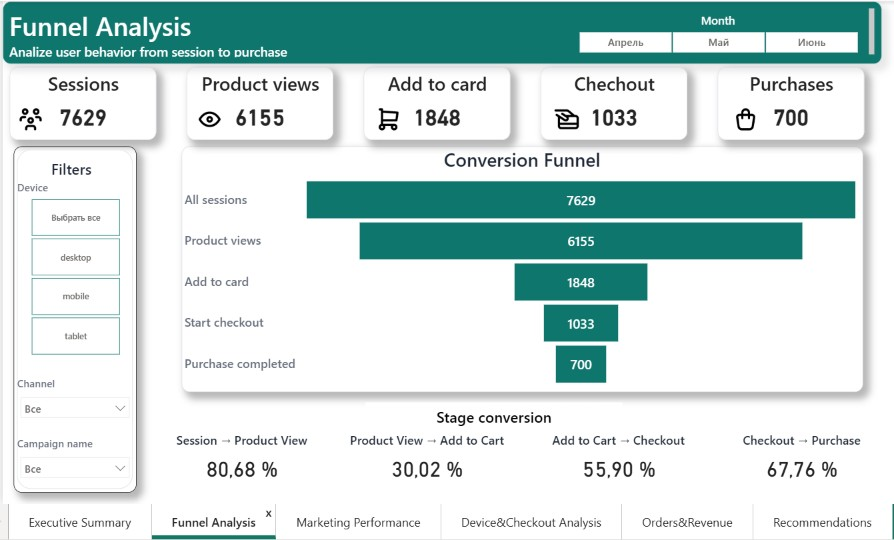

The dashboard page shown, as its layout file describes it:
{"tool":"powerbi","page":{"name":"Funnel Analysis","canvas":[1280,720],"ordinal":1},"visuals":[{"type":"funnel","title":"Conversion Funnel","fields":{"Y":["_Measure.0_Session_All","_Measure.1_Session_Product_Views","_Measure.2_Session_Add_to_Card","_Measure.3_Session_Checkout","_Measure.4_Session_Purchase_Completed"]},"box":[256,208,976,352],"z":0},{"type":"textbox","box":[0,0,1259,90],"z":1000},{"type":"shape","box":[16,208,176,496],"z":1000,"group":"g1"},{"type":"slicer","title":"Month","fields":{"Values":["dim_calendar.Month"]},"box":[800,16,448,64],"z":2000},{"type":"card","title":"Sessions","fields":{"Values":["_Measure.0_Session_All"]},"box":[10,95,210,104],"z":3000},{"type":"slicer","title":"Channel","fields":{"Values":["fact_sessions.channel"]},"box":[16,537,176,64],"z":3000,"group":"g1"},{"type":"image","box":[16,144,48,48],"z":4000},{"type":"slicer","title":"Device","fields":{"Values":["fact_sessions.device"]},"box":[16,256,176,256],"z":4000,"group":"g1"},{"type":"card","title":"Product views","fields":{"Values":["_Measure.1_Session_Product_Views"]},"box":[263.5,95,210,104],"z":5000},{"type":"card","title":"Chechout","fields":{"Values":["_Measure.3_Session_Checkout"]},"box":[770.5,95,210,104],"z":6000},{"type":"slicer","title":"Campaign name","fields":{"Values":["dim_campaigns.campaign_name"]},"box":[16,624,176,64],"z":6000,"group":"g1"},{"type":"card","title":"Purchases","fields":{"Values":["_Measure.4_Session_Purchase_Completed"]},"box":[1024,95,210,104],"z":7000},{"type":"card","title":"Add to card","fields":{"Values":["_Measure.2_Session_Add_to_Card"]},"box":[517,95,210,104],"z":8000},{"type":"image","box":[528,144,48,48],"z":9000},{"type":"image","box":[784,144,48,48],"z":10000},{"type":"image","box":[272,144,48,48],"z":11000},{"type":"image","box":[1040,144,48,48],"z":12000},{"type":"group","id":"g1","title":"Группа 1","box":[16,208,176,496],"z":13000},{"type":"card","title":"Session → Product View","fields":{"Values":["_Measure.CR_0_session_prod_views"]},"box":[231.2,615.9,224,80],"z":14000},{"type":"card","title":"Product View → Add to Cart","fields":{"Values":["_Measure.CR_1_Prod_views_Add_to_card"]},"box":[480.5,615.9,256,80],"z":15000},{"type":"card","title":"Add to Cart → Checkout","fields":{"Values":["_Measure.CR_2_Add_card_to_Checkout"]},"box":[761.7,615.9,240,80],"z":16000},{"type":"textbox","box":[64.8,219.7,96.7,43.3],"z":17000,"group":"g1"},{"type":"card","title":"Checkout → Purchase","fields":{"Values":["_Measure.CR_3_Checkout_to_Purchase"]},"box":[1025,615.9,238,80],"z":17000},{"type":"textbox","box":[520,574,368,48],"z":18000}]}

Visuals, with their boxes on the page's 1280x720 design canvas (x1, y1, x2, y2). These are canvas units, not pixel positions in the 894x540 screenshot, which may show the page scaled, cropped or inside an application window:
"Conversion Funnel" funnel: [256,208,1232,560]
textbox: [0,0,1259,90]
shape: [16,208,192,704]
"Month" slicer: [800,16,1248,80]
"Sessions" card: [10,95,220,199]
"Channel" slicer: [16,537,192,601]
image: [16,144,64,192]
"Device" slicer: [16,256,192,512]
"Product views" card: [264,95,474,199]
"Chechout" card: [770,95,980,199]
"Campaign name" slicer: [16,624,192,688]
"Purchases" card: [1024,95,1234,199]
"Add to card" card: [517,95,727,199]
image: [528,144,576,192]
image: [784,144,832,192]
image: [272,144,320,192]
image: [1040,144,1088,192]
"Группа 1" group: [16,208,192,704]
"Session → Product View" card: [231,616,455,696]
"Product View → Add to Cart" card: [480,616,736,696]
"Add to Cart → Checkout" card: [762,616,1002,696]
textbox: [65,220,162,263]
"Checkout → Purchase" card: [1025,616,1263,696]
textbox: [520,574,888,622]
